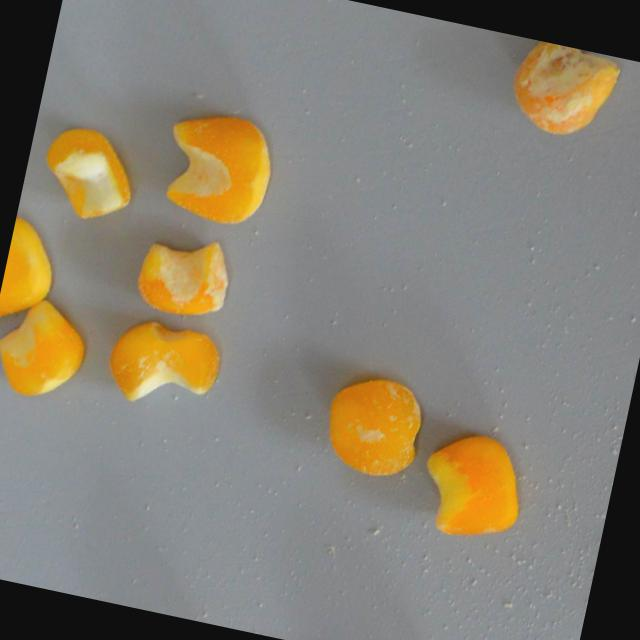dañado: (497, 35, 625, 149)
no_desgerminado: (0, 212, 66, 338)
pelicula: (151, 99, 282, 231), (407, 420, 534, 553), (313, 363, 434, 488), (99, 309, 227, 420), (31, 116, 144, 231), (128, 221, 242, 326), (0, 290, 94, 407)
